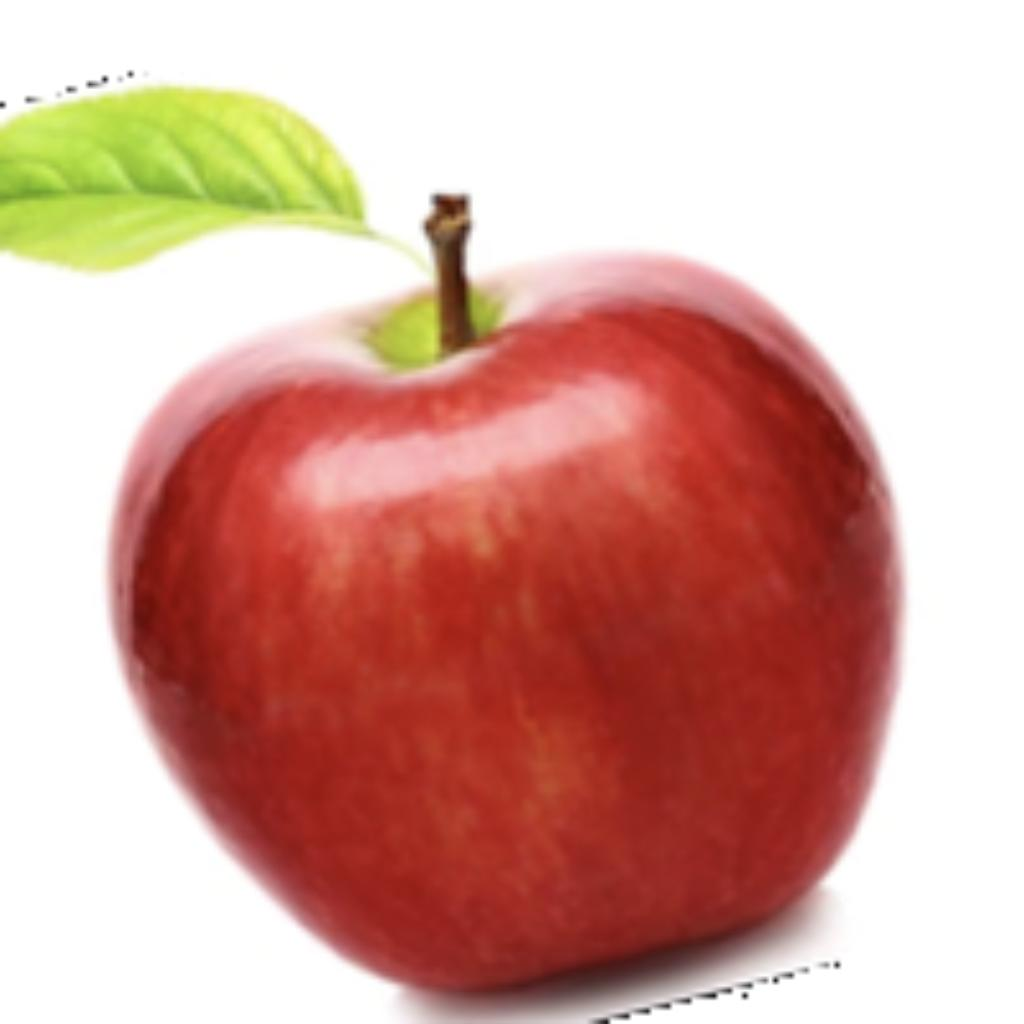apple: (97, 184, 911, 1019)
